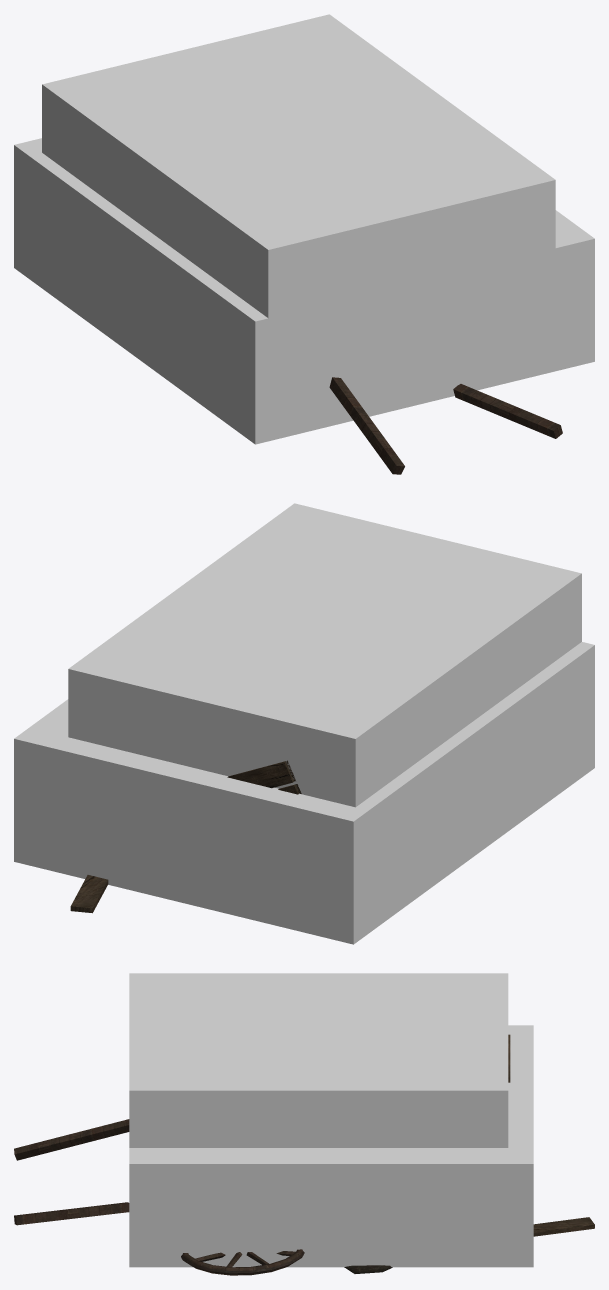
The model's file is cart_broken.glb.
The picture shows the model from 3 angles, top to bottom: view 1: azimuth 30°, elevation 25°; view 2: azimuth 150°, elevation 25°; view 3: azimuth 270°, elevation 25°; orthographic projection. The views are drawn at different scales.
Parts seen in each view (by area): view 1: col_click, col_cart, spill; view 2: col_click, col_cart, cart_body, spill; view 3: col_click, col_cart, spill, wheel_L.
Boxes of the visible parts, x1,y1,x2,y2 form: col_click: (42, 14, 555, 422); col_cart: (14, 138, 594, 444); spill: (329, 377, 562, 474); col_click: (68, 503, 581, 807); col_cart: (14, 642, 594, 944); cart_body: (227, 760, 301, 794); spill: (70, 875, 108, 913); col_click: (129, 973, 508, 1147); col_cart: (129, 1025, 533, 1267); spill: (14, 1119, 594, 1273); wheel_L: (181, 1249, 304, 1275).
Bounding box in the file's own units: 3 × 1.41 × 4.6.
Materials: 6 (6 with a texture image).
